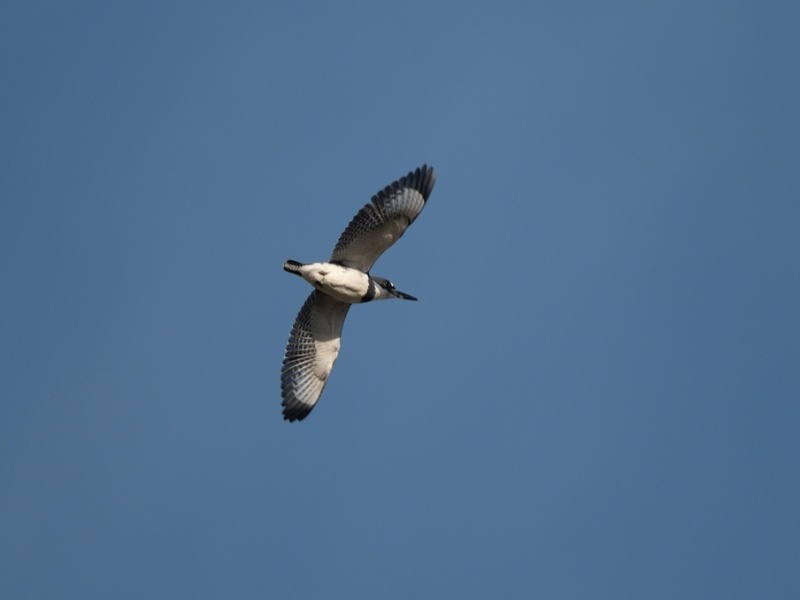kingfisher: (271, 159, 443, 428)
